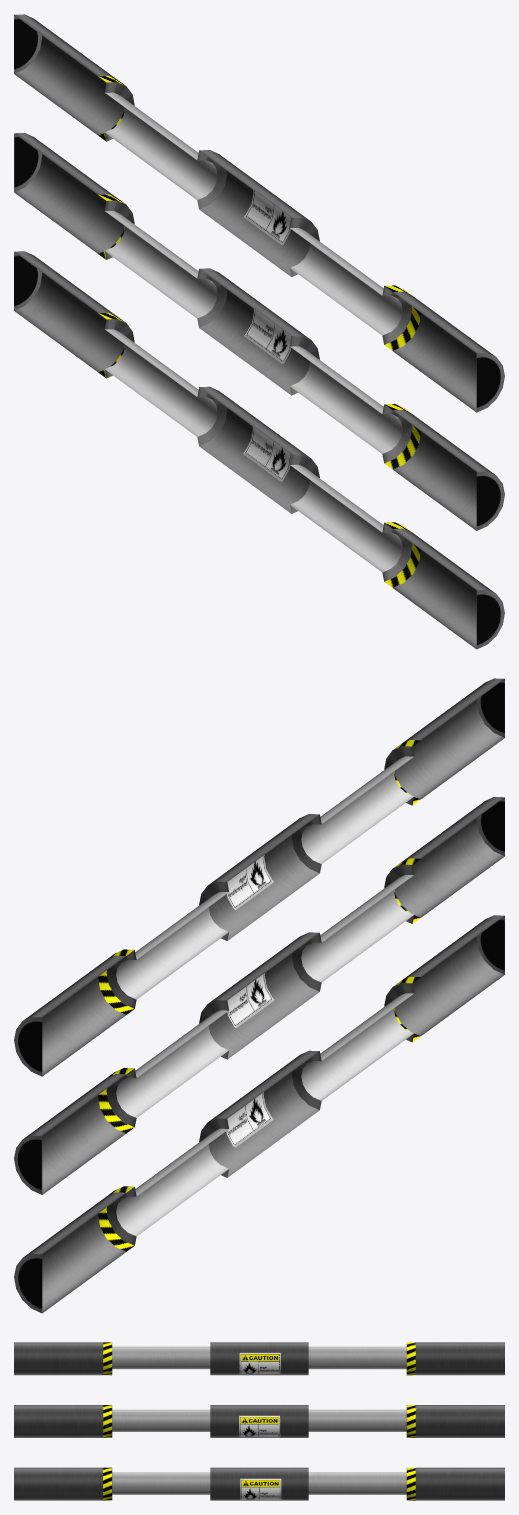
File: AislePipe.fbx
The picture shows the model from 3 angles, top to bottom: view 1: azimuth 30°, elevation 25°; view 2: azimuth 150°, elevation 25°; view 3: azimuth 270°, elevation 25°; orthographic projection. The views are drawn at different scales.
Parts seen in each view (by area): view 1: Pipe001; view 2: Pipe001; view 3: Pipe001.
Part boxes in pixels (left/top/right/bottom): Pipe001: left=14, top=14, right=504, bottom=649; Pipe001: left=14, top=678, right=504, bottom=1313; Pipe001: left=14, top=1342, right=504, bottom=1500.
Bounding box in the file's own units: 16.23 × 152 × 432.
Materials: 1 (1 with a texture image).
